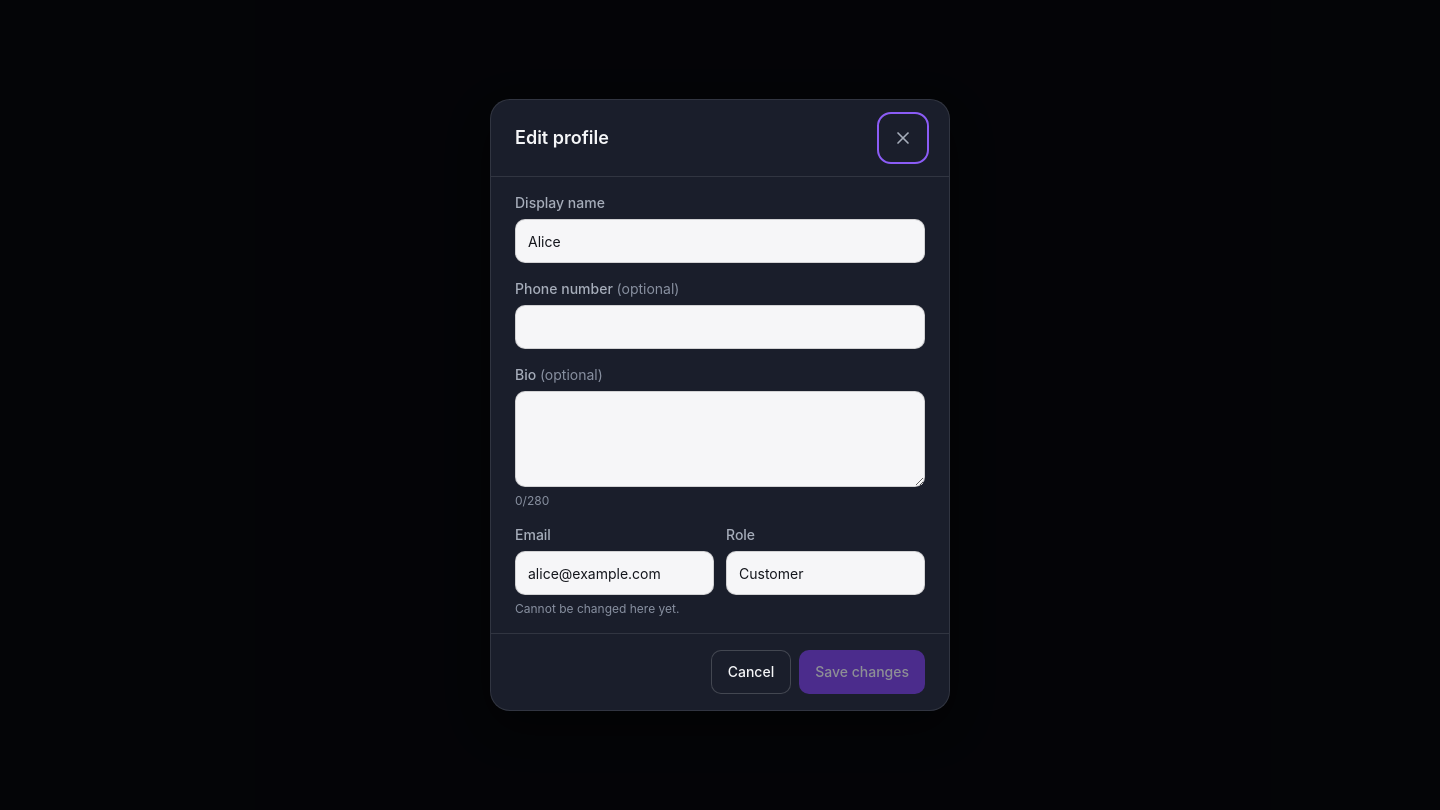
Test: EditProfileModal › clears the display-name error once the user corrects it
The width and height of the screenshot is (1440, 810).
Replace the text in the field labelled "Display name" with "A": (720,241) [515,219,925,263]
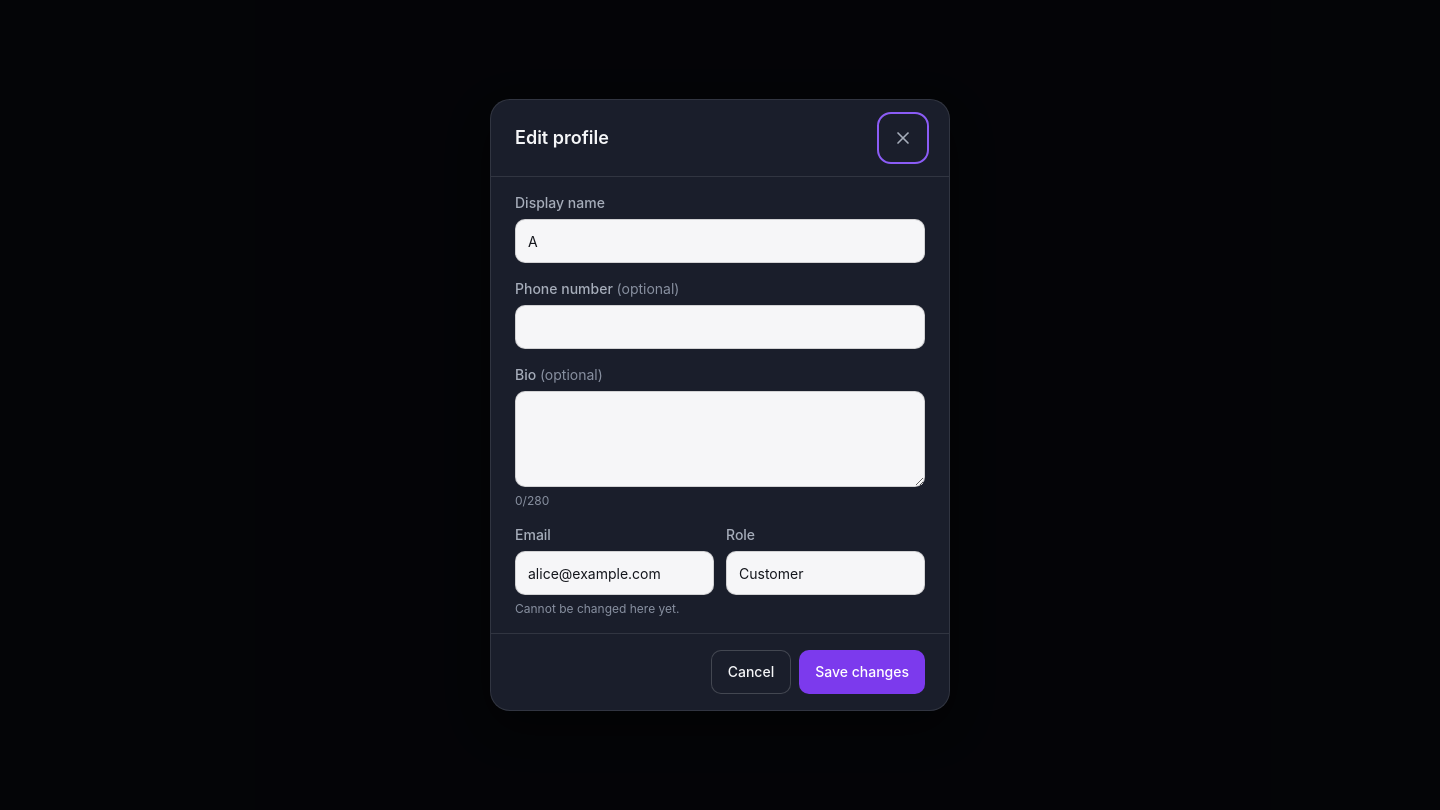
Click the button "Save changes": (862,672) [799,650,925,694]
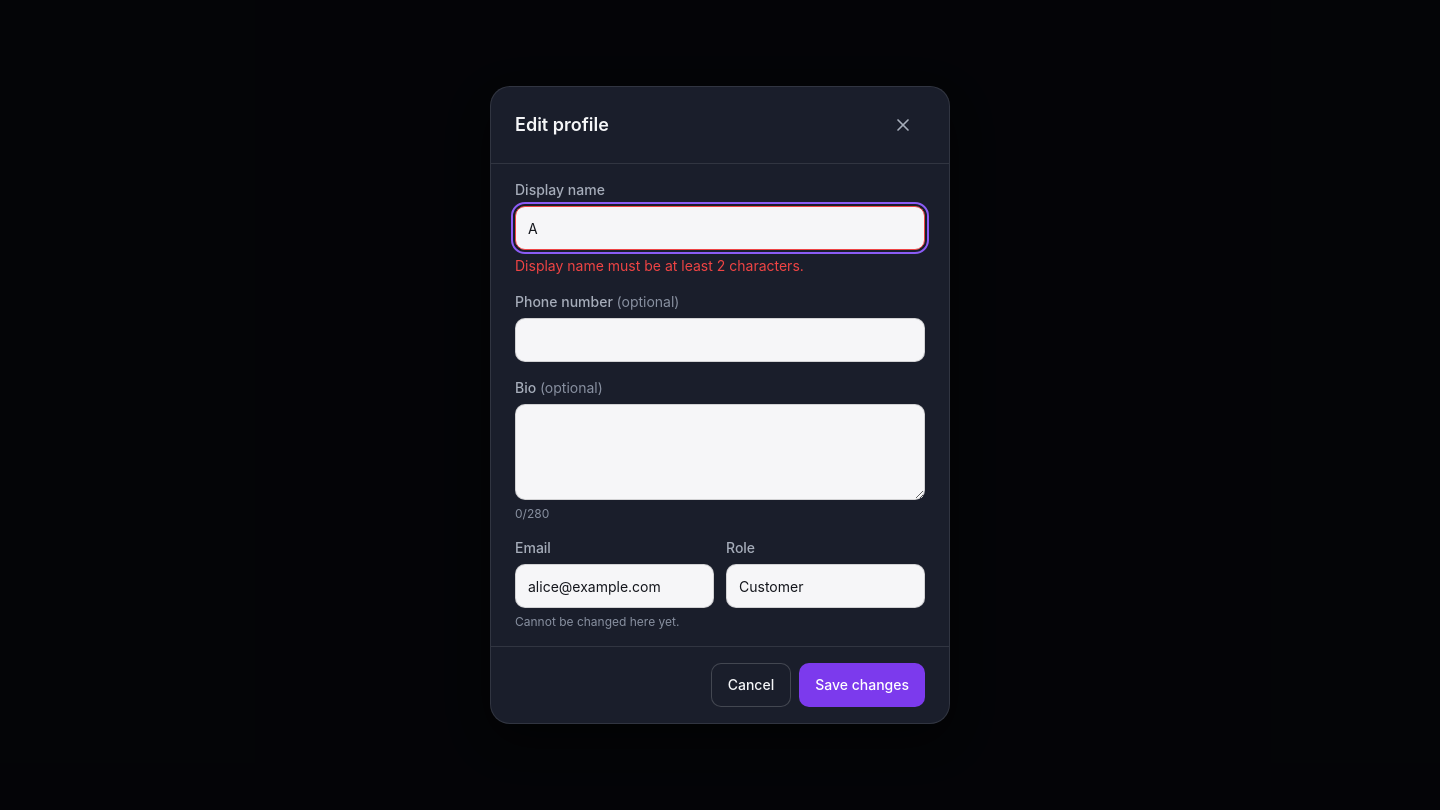
Result: the text "Display name must be at least 2 characters." is shown at [515,257,804,274]
Replace the text in the field labelled "Display name" with "Alice Updated": (720,228) [515,206,925,250]
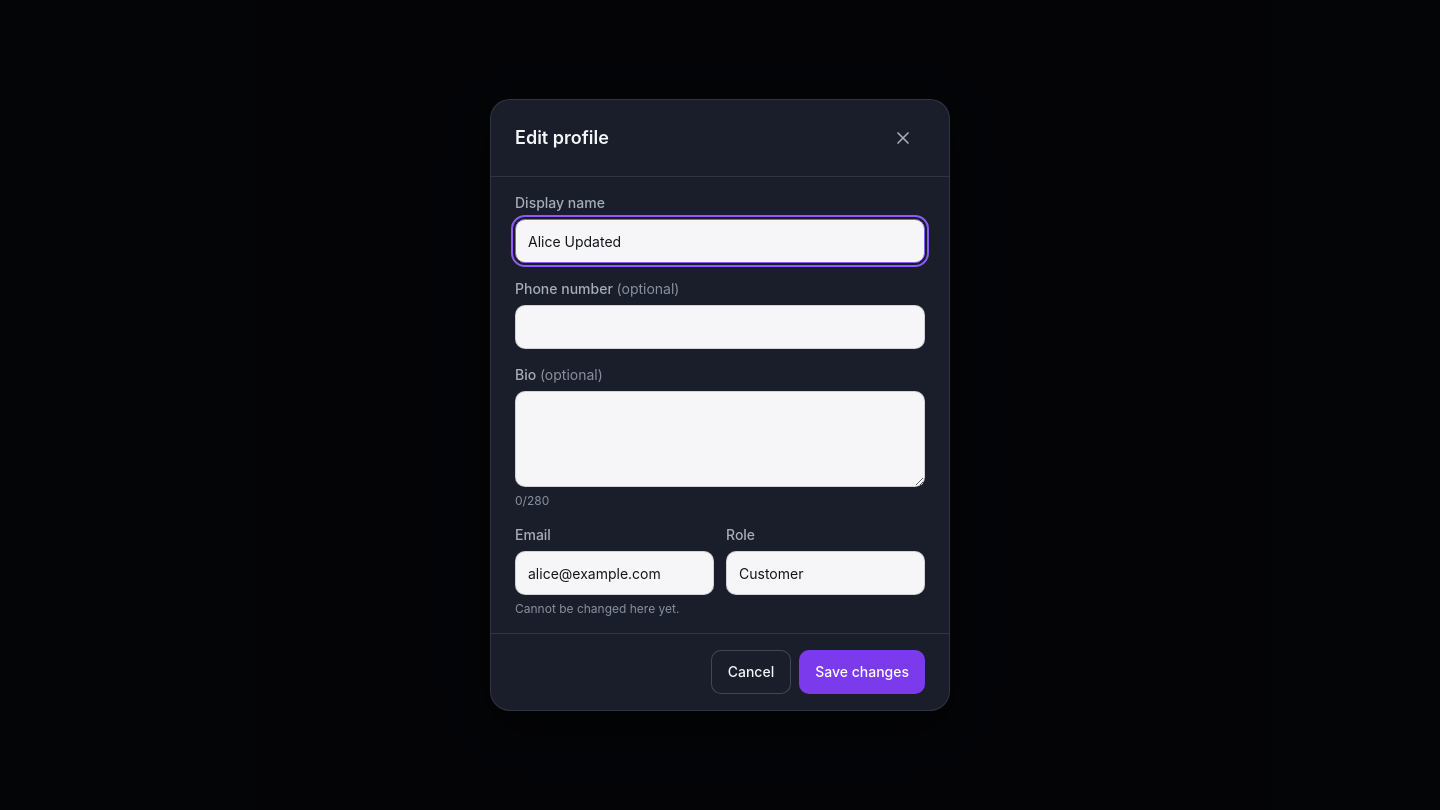
Result: the text "at least 2 characters" is gone
